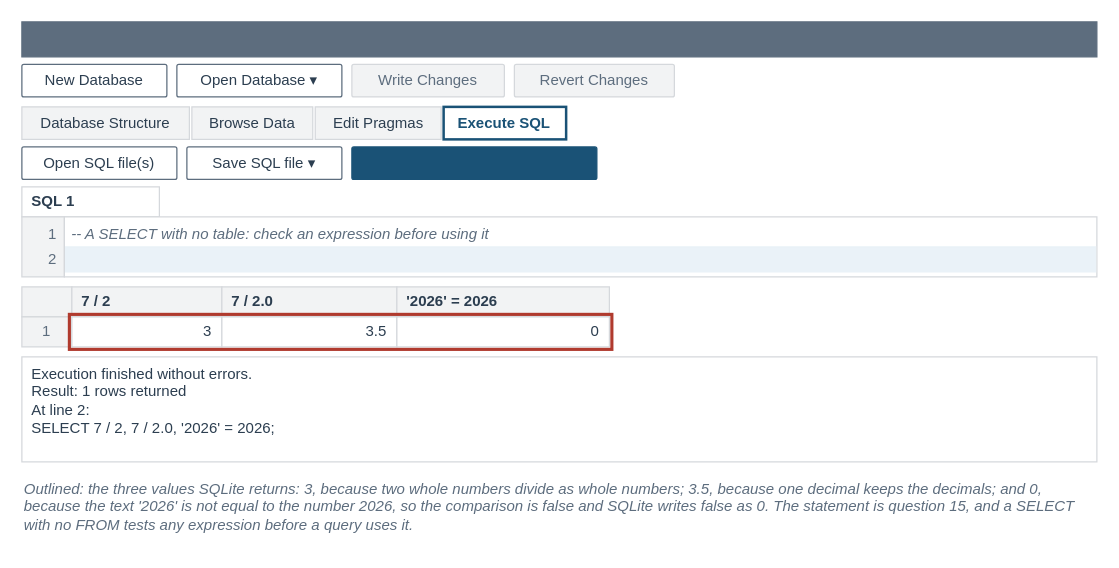
Some shapes in this 1119 by 568 pixel diagram are drawn without their labels. The box of each missing label's shape, as (x1, y1, x2, y2) in pixels:
DB Browser for SQLite - C:\Users\you\Documents\CharlesRiver_Work.sqlite: (21, 21, 1097, 57)
SELECT 7 / 2, 7 / 2.0, '2026' = 2026;: (64, 246, 1096, 272)
▶ Execute all/selected SQL: (351, 146, 597, 179)
